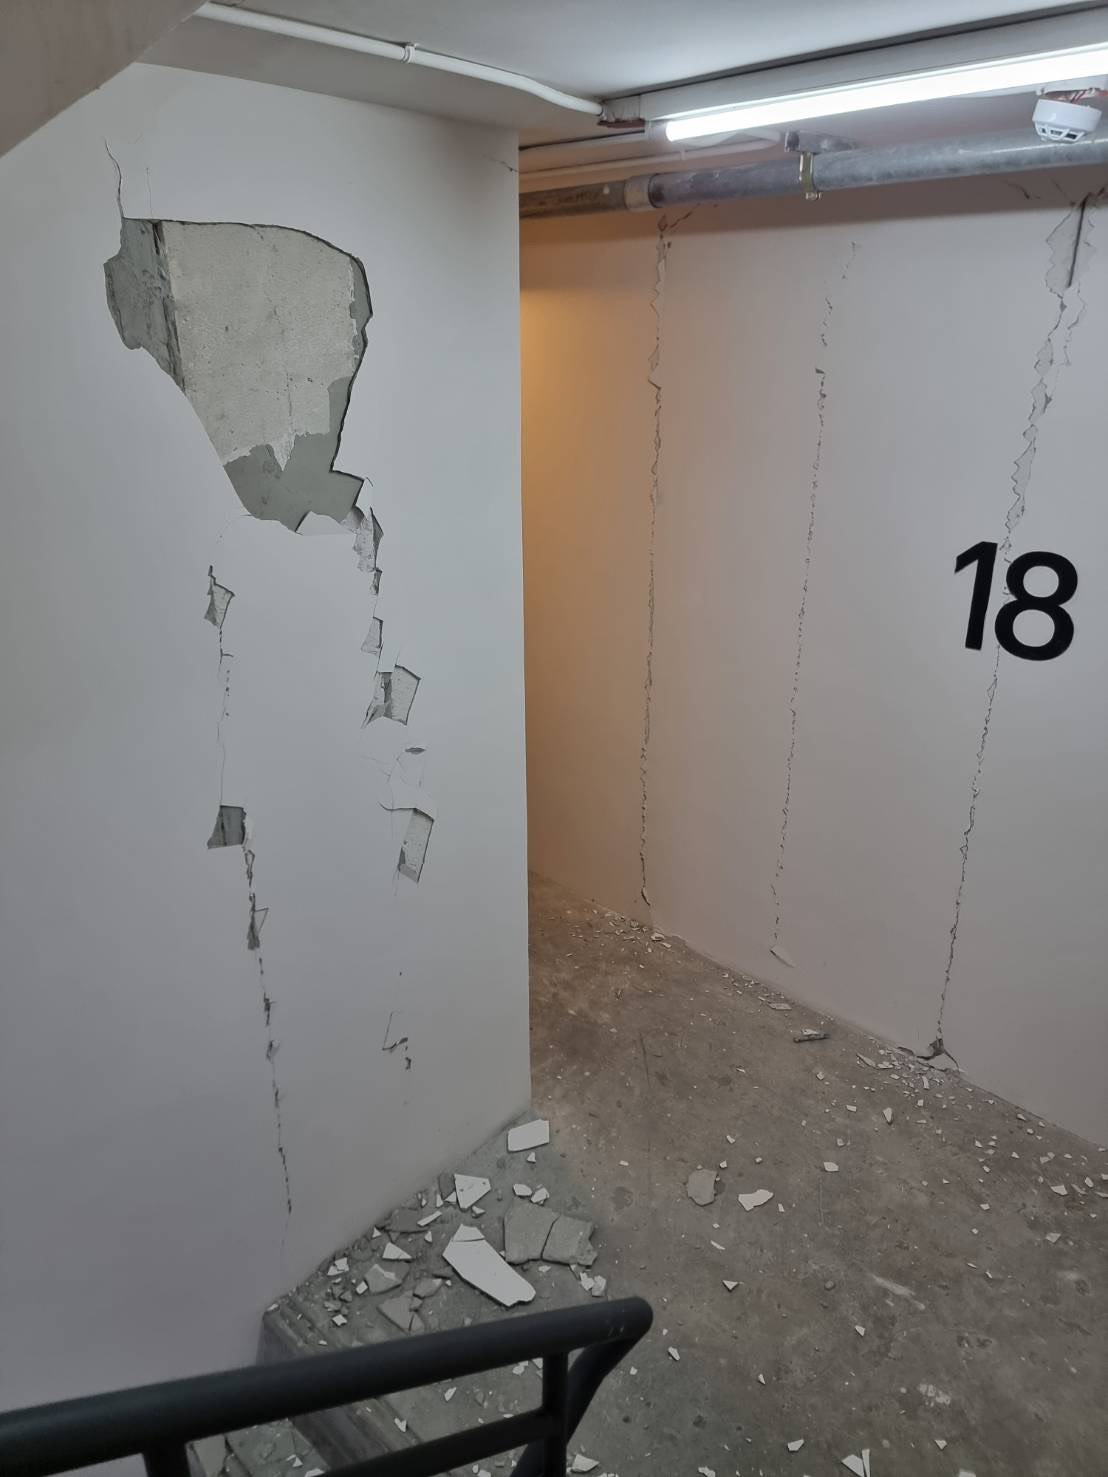Medium: (85, 197, 482, 1130)
